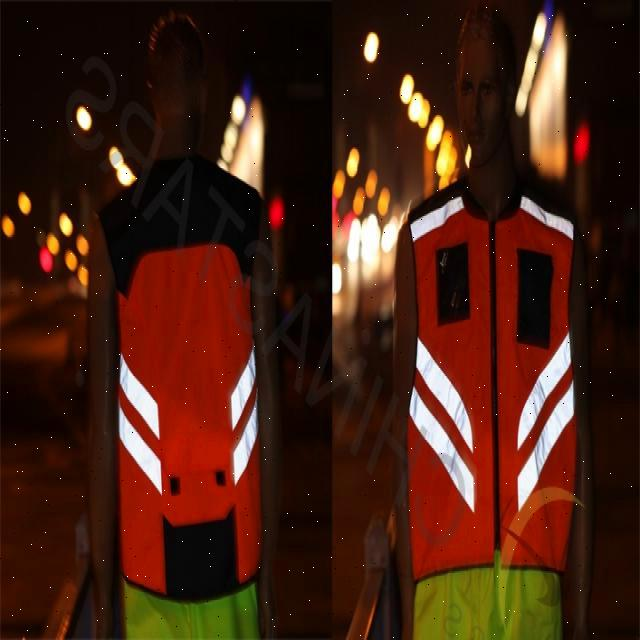Vest: (405, 198, 577, 584), (109, 170, 258, 594)
